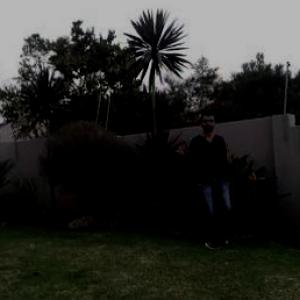follow: (192, 109, 232, 248)
